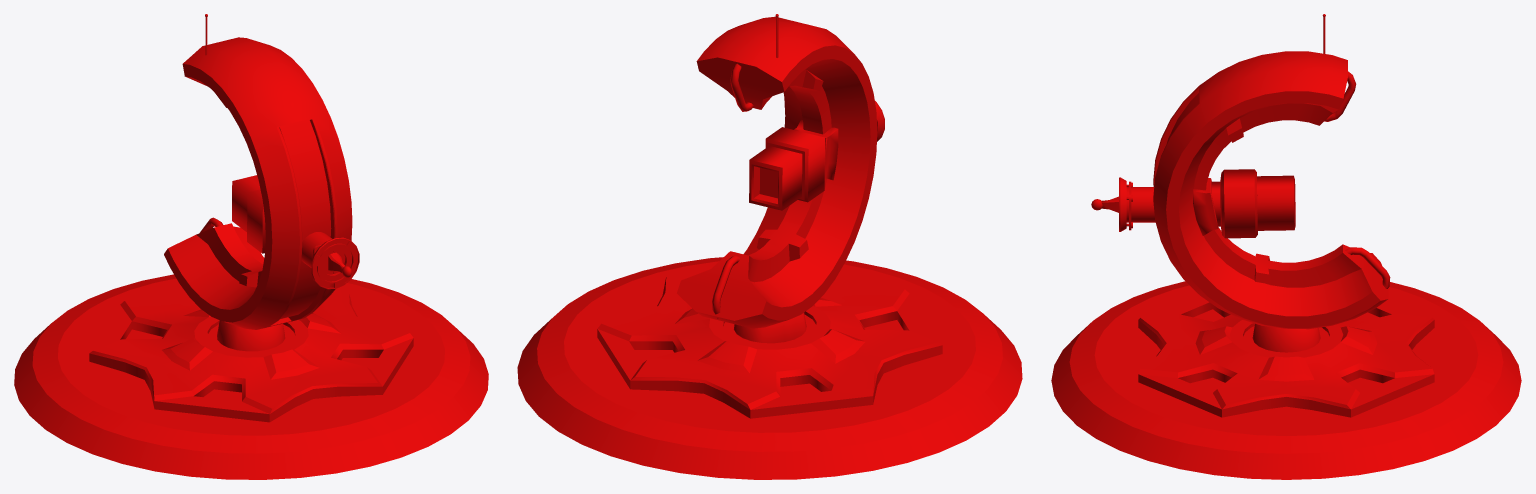
File: Junction_Node.fbx
3 views of the same model, side by side, from view 1: azimuth 30°, elevation 25°; view 2: azimuth 150°, elevation 25°; view 3: azimuth 270°, elevation 25° (orthographic). The views are drawn at different scales.
Parts seen in each view (by area): view 1: Stand_docking, Docking_module, Stand_UP, Father_module; view 2: Stand_docking, Docking_module, Stand_UP, Father_module; view 3: Stand_docking, Docking_module, Stand_UP, Father_module.
Part boxes in pixels (box(x1,y1,x2,y2)): Stand_docking: box(14, 274, 488, 479); Docking_module: box(164, 14, 352, 351); Stand_UP: box(89, 288, 413, 422); Father_module: box(232, 175, 359, 289); Stand_docking: box(517, 257, 1022, 479); Docking_module: box(677, 14, 877, 343); Stand_UP: box(597, 274, 942, 418); Father_module: box(749, 101, 884, 210); Stand_docking: box(1051, 281, 1521, 479); Docking_module: box(1153, 14, 1390, 352); Stand_UP: box(1138, 294, 1434, 417); Father_module: box(1091, 169, 1295, 238).
Size of the model in its own units: 31.55 by 26.21 by 31.55.
